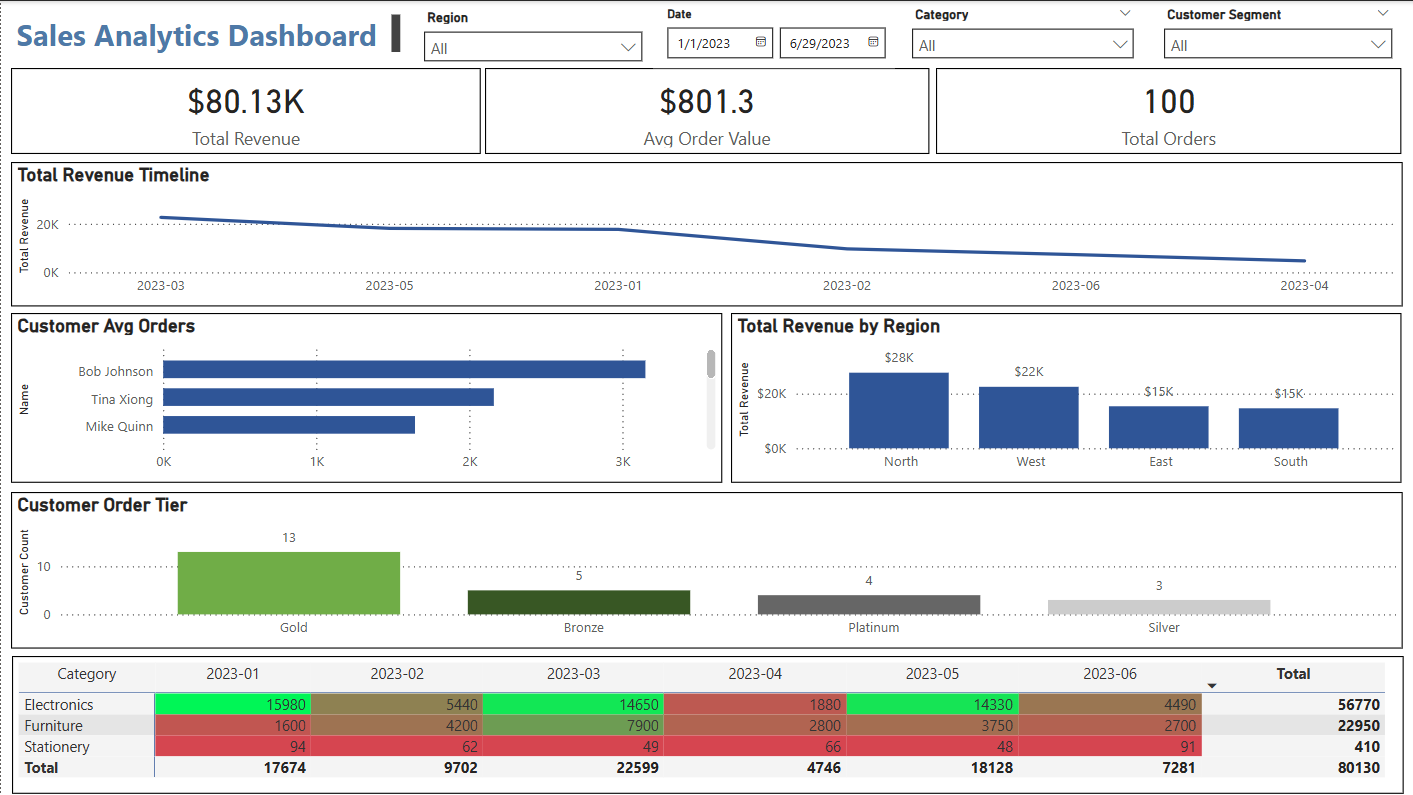

The dashboard page shown, as its layout file describes it:
{"tool":"powerbi","page":{"name":"Sales-Analytics-Dashboard","canvas":[1280,720],"ordinal":0},"visuals":[{"type":"card","fields":{"Values":["customers.Total Revenue"]},"box":[8.8,60.3,426,77.8],"z":0},{"type":"card","fields":{"Values":["customers.Avg Order Value"]},"box":[438.7,60.3,402.7,77.8],"z":1000},{"type":"lineChart","title":"Total Revenue Timeline","fields":{"Category":["DateTable.YearMonth"],"Y":["customers.Total Revenue"]},"box":[8.8,145.9,1262.5,131.3],"z":2000},{"type":"clusteredBarChart","title":"Customer Avg Orders","fields":{"Category":["customers.name"],"Y":["customers.Avg Order Value"]},"box":[8.8,283,644.9,153.7],"z":3000},{"type":"columnChart","title":"Total Revenue by Region","fields":{"Category":["customers.region"],"Y":["customers.Total Revenue"]},"box":[662.4,283,607.9,153.7],"z":4000},{"type":"pivotTable","fields":{"Rows":["products.category"],"Columns":["DateTable.YearMonth"],"Values":["customers.Total Revenue"]},"box":[9.7,594.3,1261.5,125.5],"z":5000},{"type":"columnChart","title":"Customer Order Tier","fields":{"Category":["customers.Customer Segment"],"Y":["customers.customer_id"]},"box":[8.8,445.5,1262.5,142],"z":6000},{"type":"textbox","box":[9.1,7.3,358.2,45.3],"z":7000},{"type":"card","fields":{"Values":["sales.Total Orders"]},"box":[848.1,60.3,422.1,77.8],"z":8000},{"type":"slicer","fields":{"Values":["customers.region"]},"box":[373.6,2.7,217.6,53.5],"z":9000},{"type":"slicer","fields":{"Values":["DateTable.Date"]},"box":[591.2,0,218.5,60.8],"z":10000},{"type":"slicer","fields":{"Values":["products.category"]},"box":[816.1,0,221.3,56.2],"z":11000},{"type":"slicer","fields":{"Values":["customers.Customer Segment"]},"box":[1044.6,0,226.7,56.2],"z":12000}]}

Visuals, with their boxes in screenshot pixels (x1, y1, x2, y2), scaled from the page's 1280x720 canvas onto the 1413x795 screenshot:
card - customers.Total Revenue: box=[10, 67, 480, 152]
card - customers.Avg Order Value: box=[484, 67, 929, 152]
"Total Revenue Timeline" lineChart: box=[10, 161, 1403, 306]
"Customer Avg Orders" clusteredBarChart: box=[10, 312, 722, 482]
"Total Revenue by Region" columnChart: box=[731, 312, 1402, 482]
pivotTable - products.category x DateTable.YearMonth: box=[11, 656, 1403, 794]
"Customer Order Tier" columnChart: box=[10, 492, 1403, 649]
textbox: box=[10, 8, 405, 58]
card - sales.Total Orders: box=[936, 67, 1402, 152]
slicer - customers.region: box=[412, 3, 653, 62]
slicer - DateTable.Date: box=[653, 0, 894, 67]
slicer - products.category: box=[901, 0, 1145, 62]
slicer - customers.Customer Segment: box=[1153, 0, 1403, 62]
